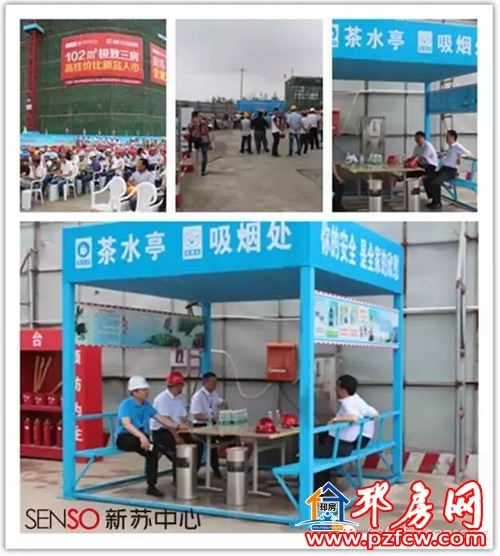none: (334, 373, 360, 400), (199, 370, 219, 393), (133, 156, 149, 173), (443, 127, 457, 144), (413, 131, 427, 145)
red: (165, 371, 186, 395)
white: (126, 374, 150, 401)
